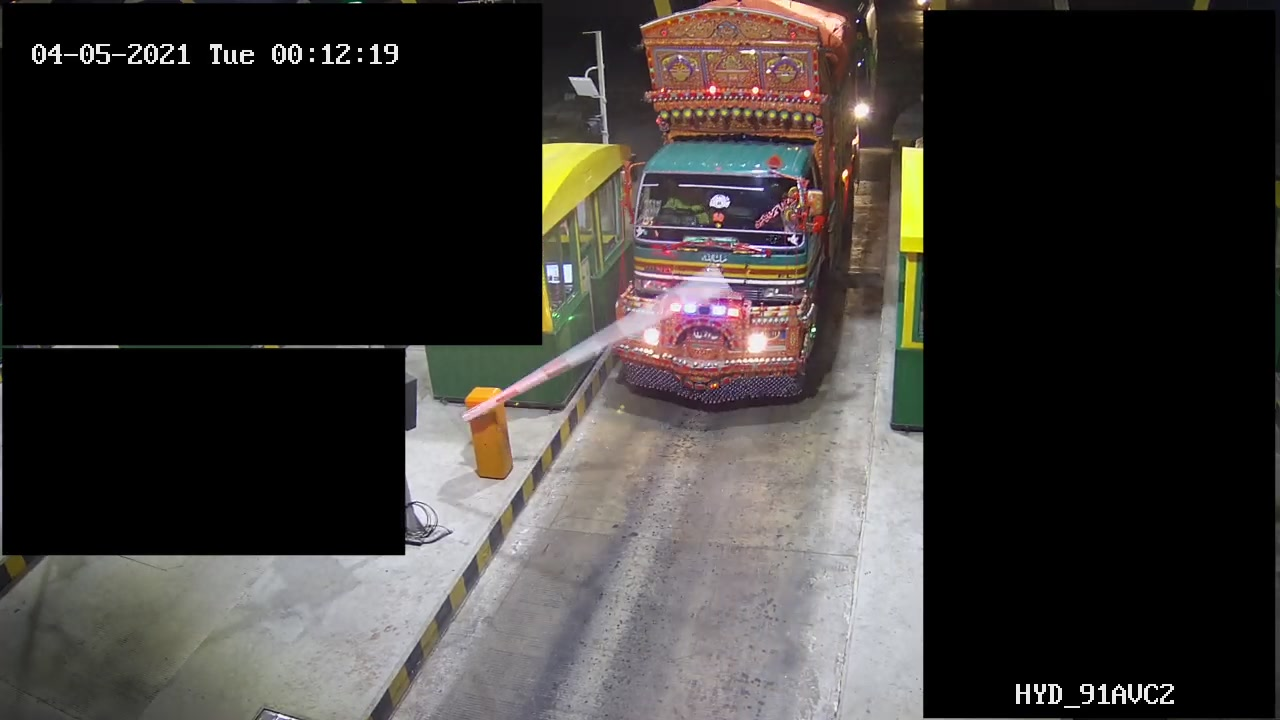F5: (611, 1, 866, 426)
